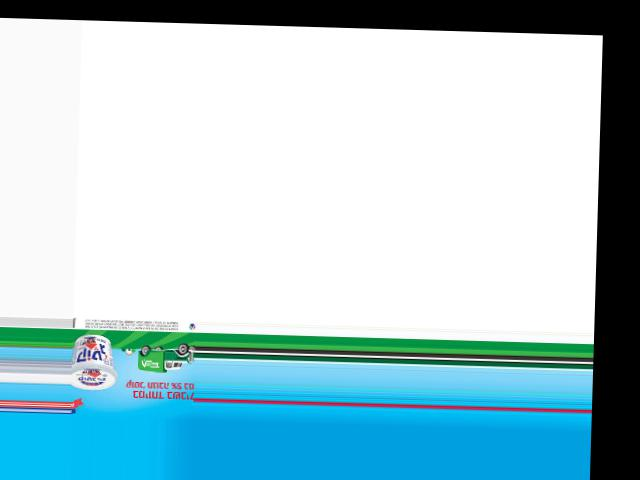cotage: (71, 333, 117, 391)
